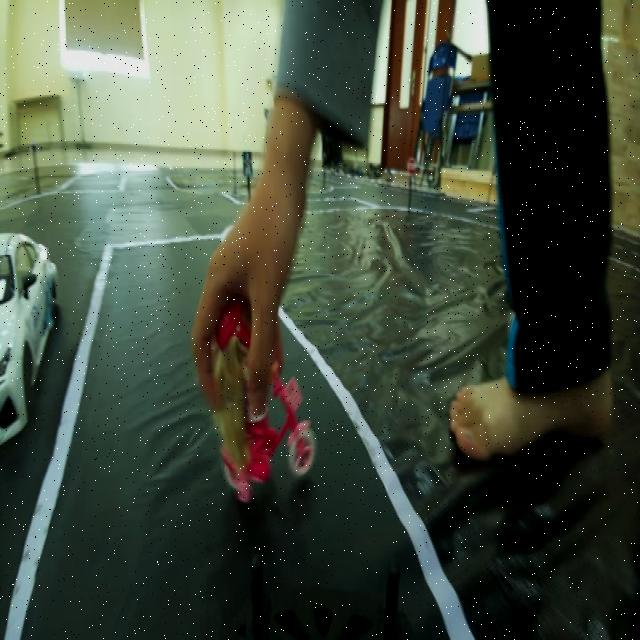pedestrian: (212, 299, 315, 496)
